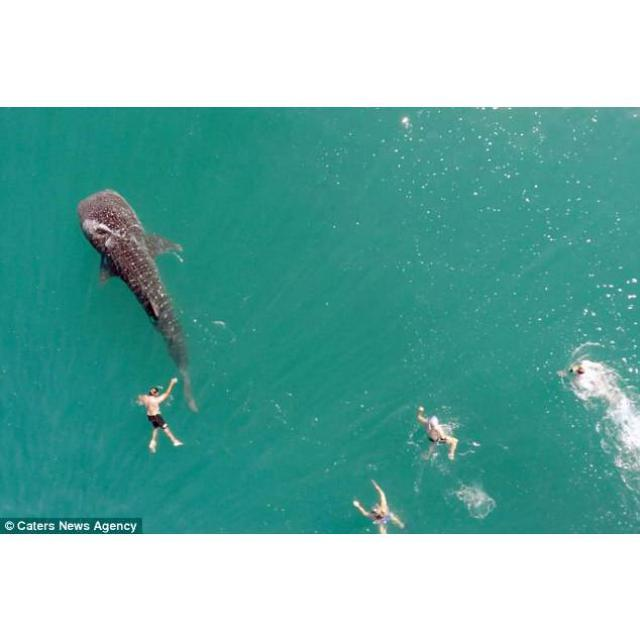human: (136, 377, 184, 455), (353, 479, 406, 532), (417, 403, 460, 463)
